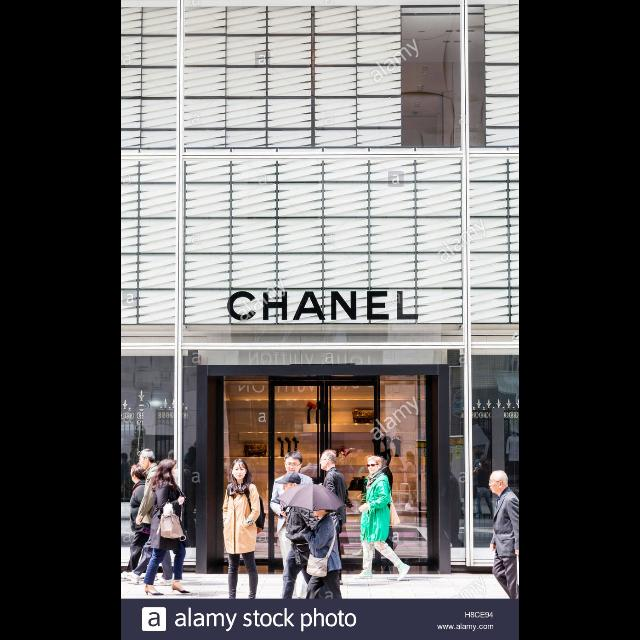head: (488, 470, 509, 494), (284, 452, 304, 474), (282, 475, 302, 497), (160, 460, 178, 480), (320, 450, 338, 470), (139, 449, 155, 471), (232, 459, 248, 481), (377, 450, 393, 470), (130, 465, 146, 483), (367, 458, 383, 474), (314, 502, 328, 516)
person: (268, 450, 328, 614), (272, 468, 338, 614), (353, 455, 413, 583), (220, 456, 268, 612), (123, 447, 175, 589), (142, 457, 194, 597), (308, 447, 356, 587), (301, 498, 355, 620), (121, 461, 161, 584), (370, 450, 396, 574)
